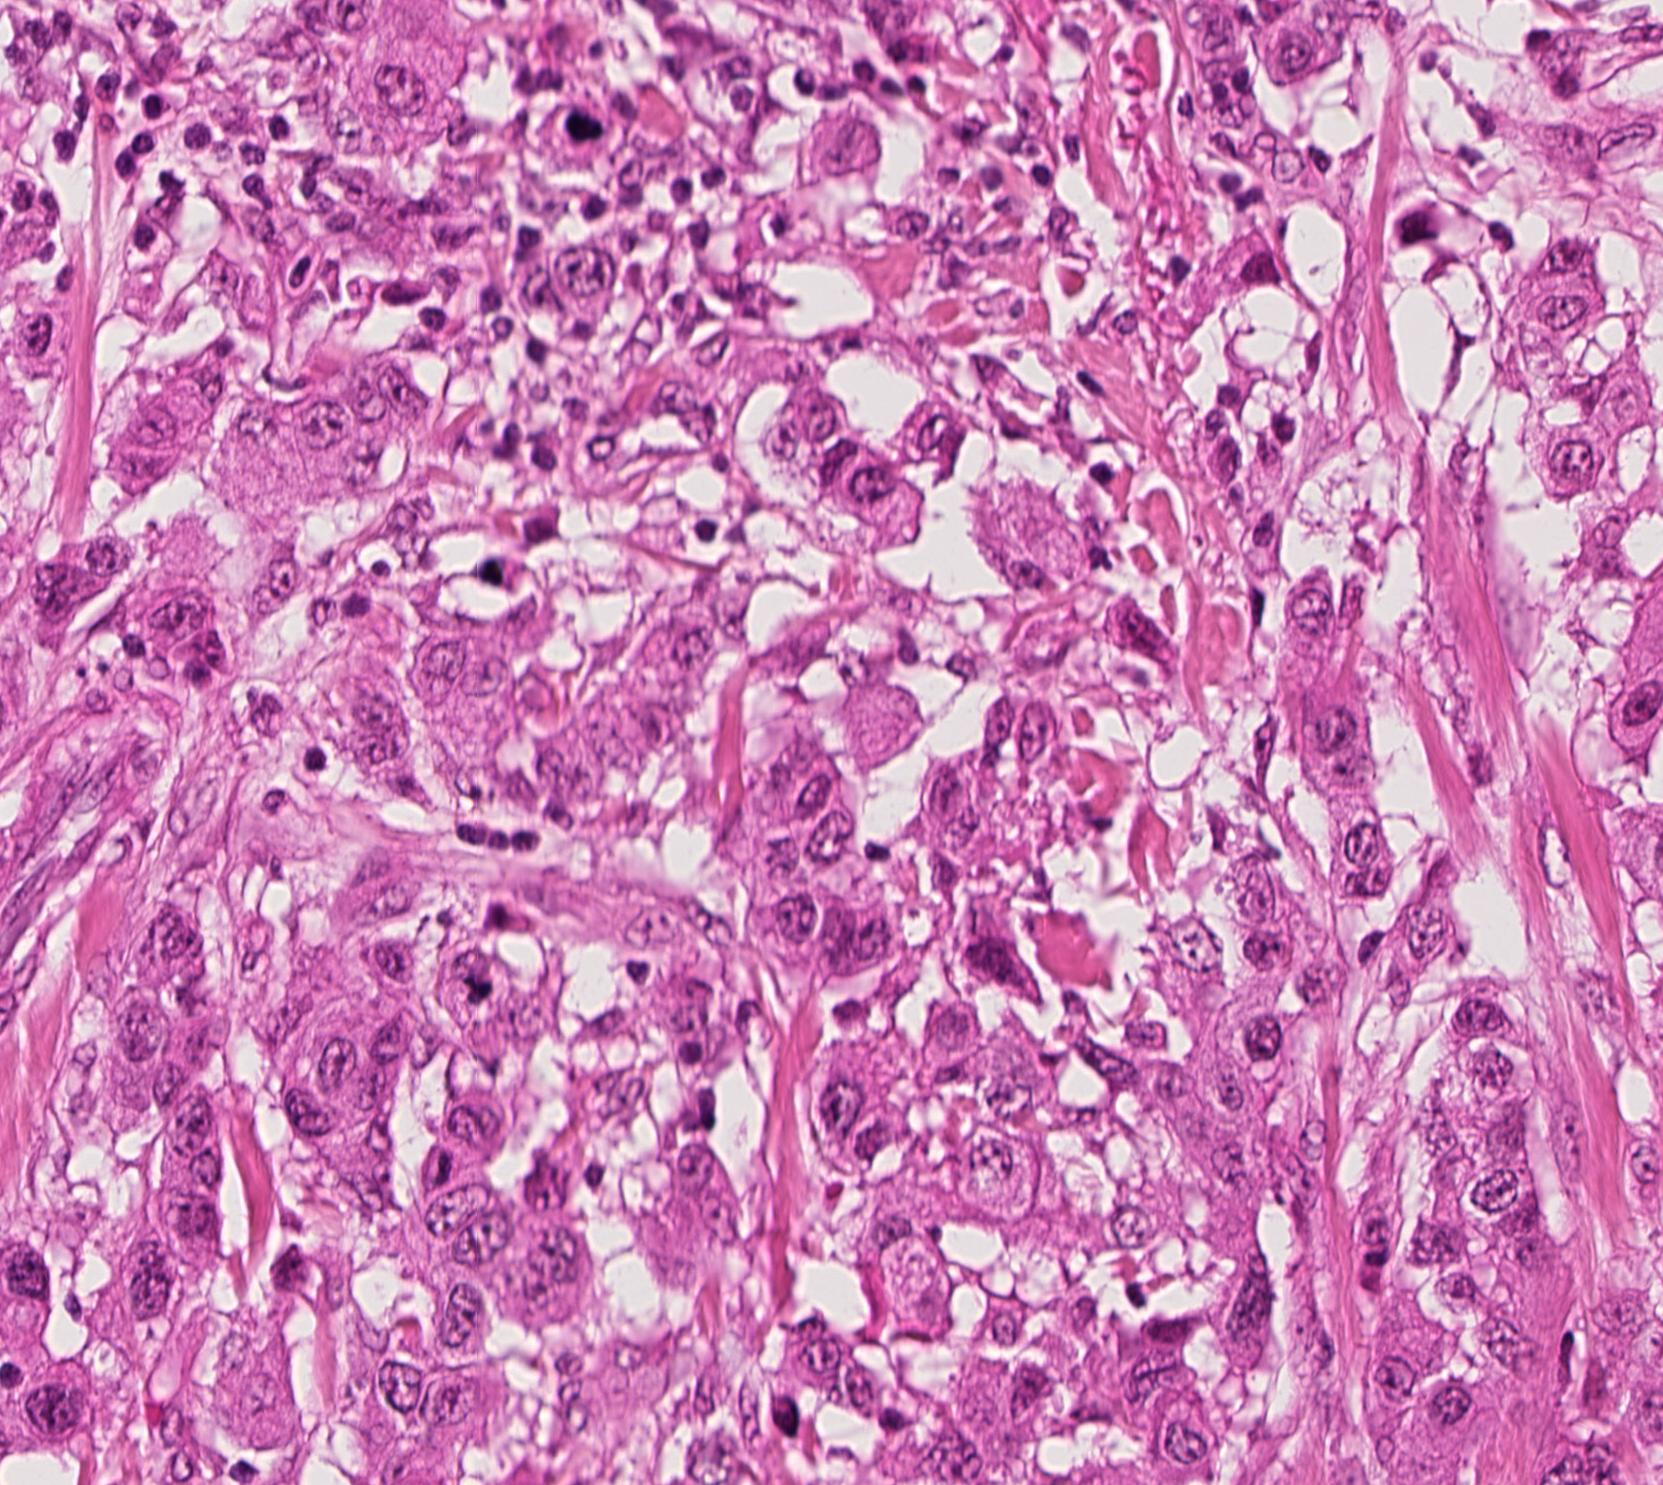mitosis: (450, 947, 510, 1008), (551, 97, 609, 158)
